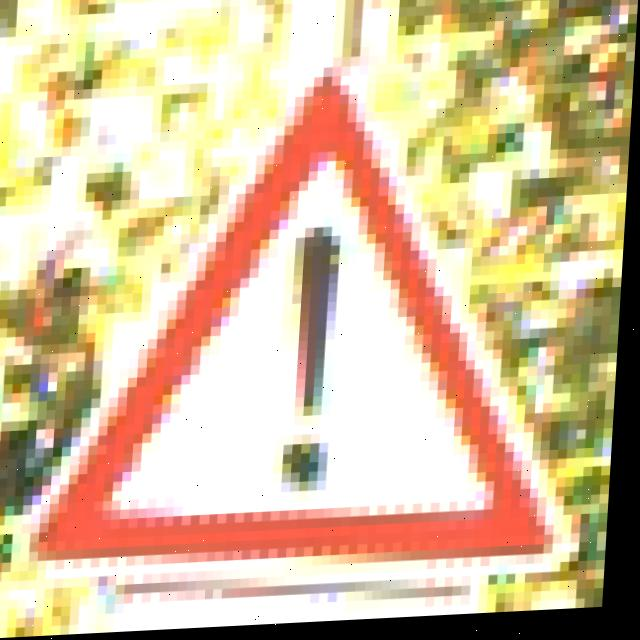warning: (60, 48, 613, 608)
